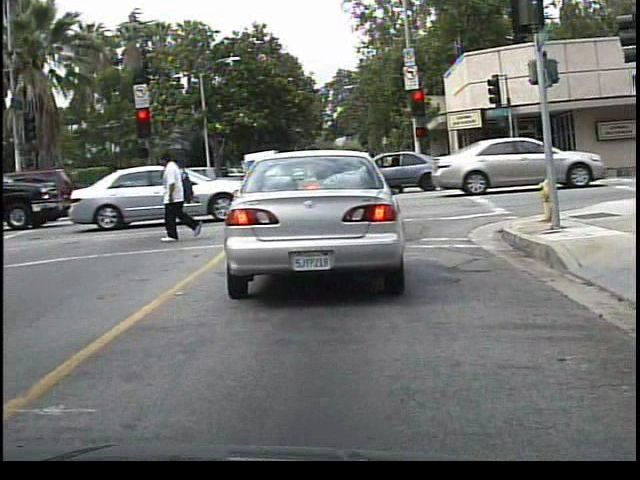person: (157, 152, 212, 245)
